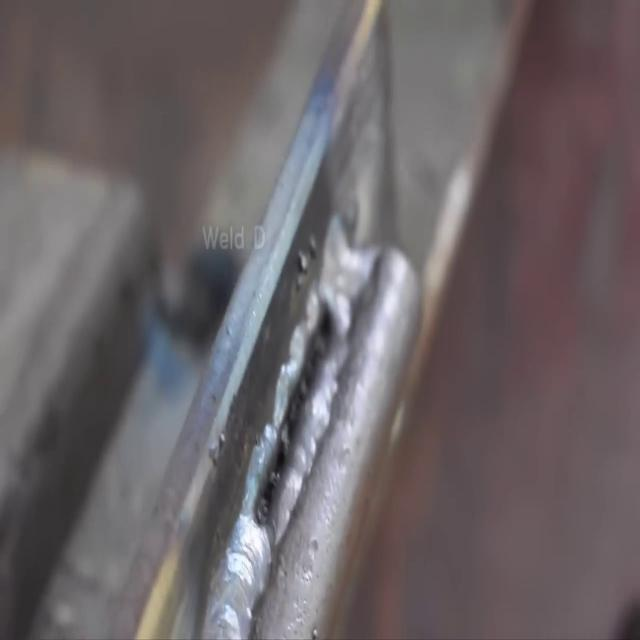Bad Weld: (215, 246, 361, 639)
Defect: (256, 305, 330, 522)
